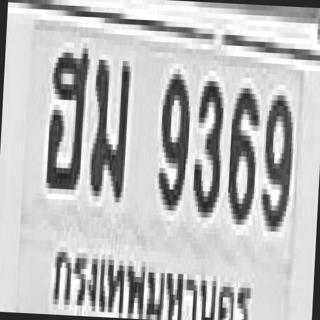A33: (86, 51, 129, 195)
A44: (44, 41, 89, 185)
N03: (190, 76, 223, 213)
N06: (226, 82, 259, 220)
N09: (156, 68, 190, 206), (259, 89, 293, 227)
P04: (48, 228, 256, 320)
